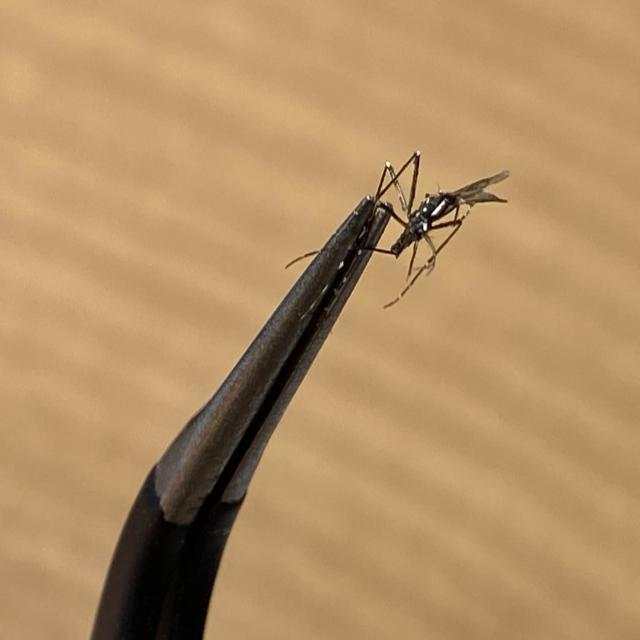albopictus: (290, 134, 512, 335)
